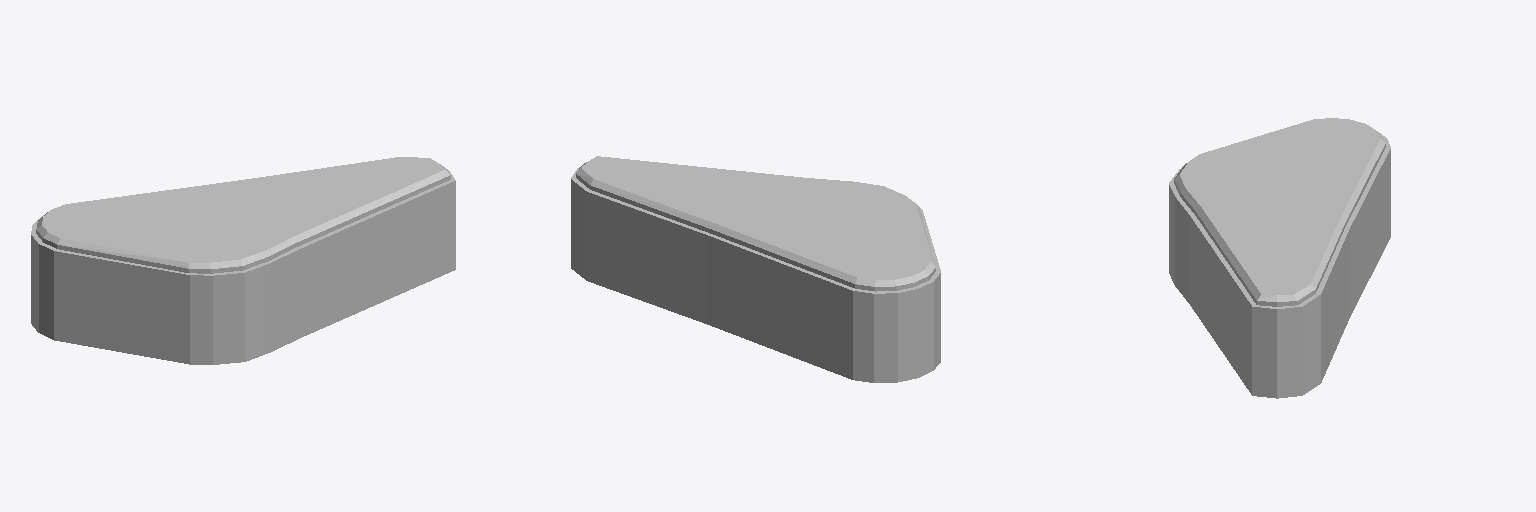
The model's file is Triangle Bumper_Fix.obj.
3 renders of one model, left to right at view 1: azimuth 30°, elevation 25°; view 2: azimuth 150°, elevation 25°; view 3: azimuth 270°, elevation 25°, orthographic.
Visible parts, largest first — view 1: Cylinder; view 2: Cylinder; view 3: Cylinder.
Boxes of the visible parts, x1,y1,x2,y2 form: Cylinder: [31, 157, 455, 364]; Cylinder: [571, 156, 940, 382]; Cylinder: [1169, 118, 1390, 398].
Bounding box in the file's own units: 8.16 × 2 × 4.11.